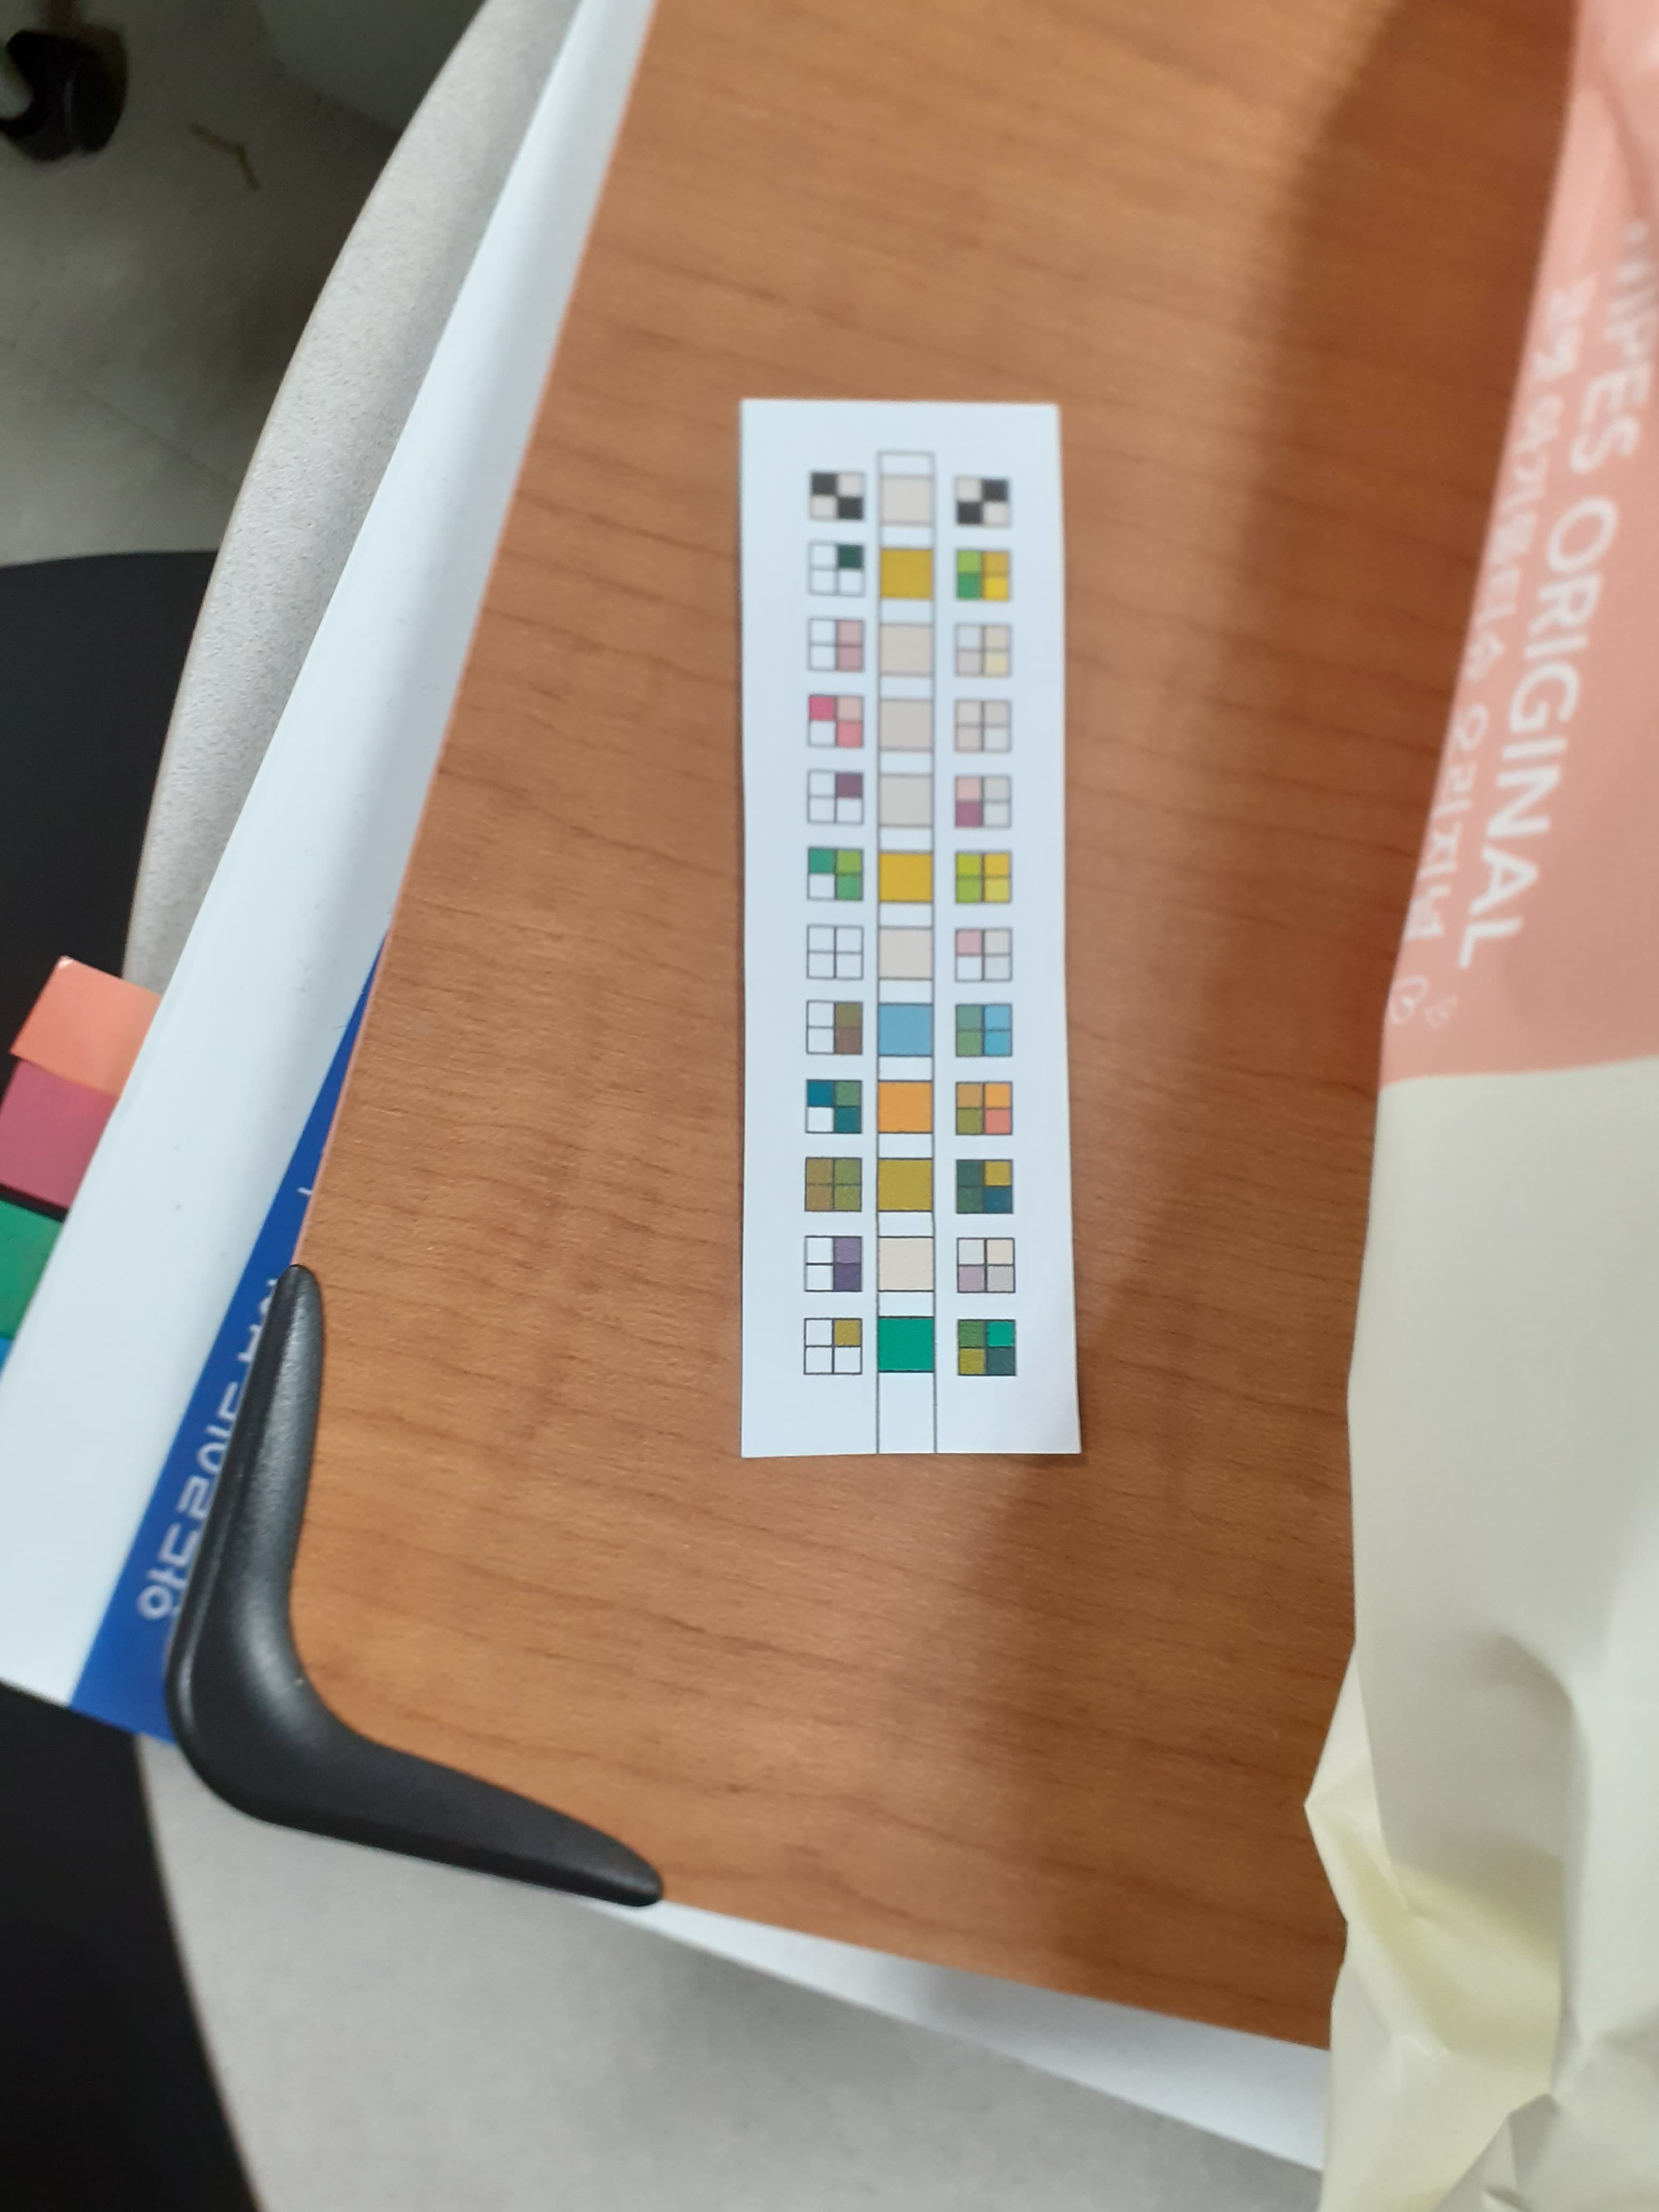tester: (742, 395, 1082, 1463)
